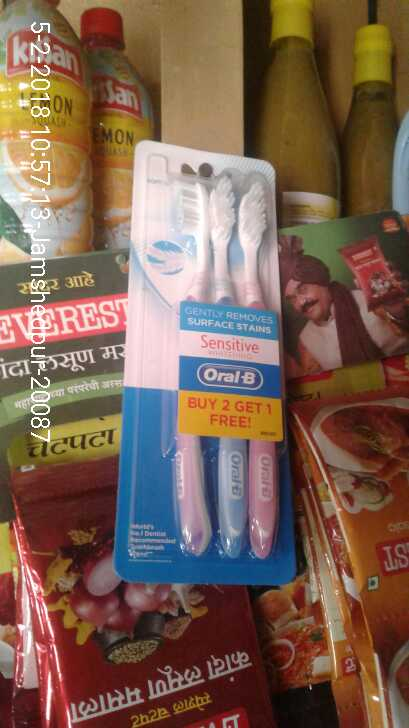oralb: (115, 144, 292, 579)
